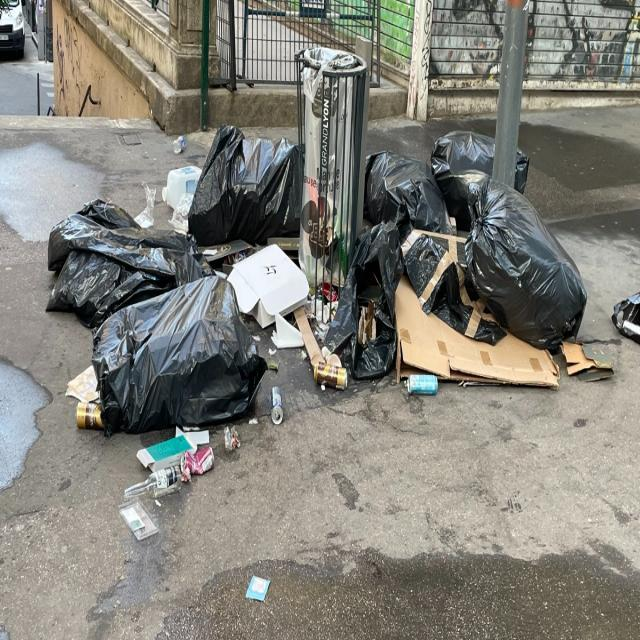garbage: (324, 103, 614, 427), (62, 273, 270, 433), (39, 178, 179, 328), (162, 118, 307, 241), (113, 426, 243, 544)
